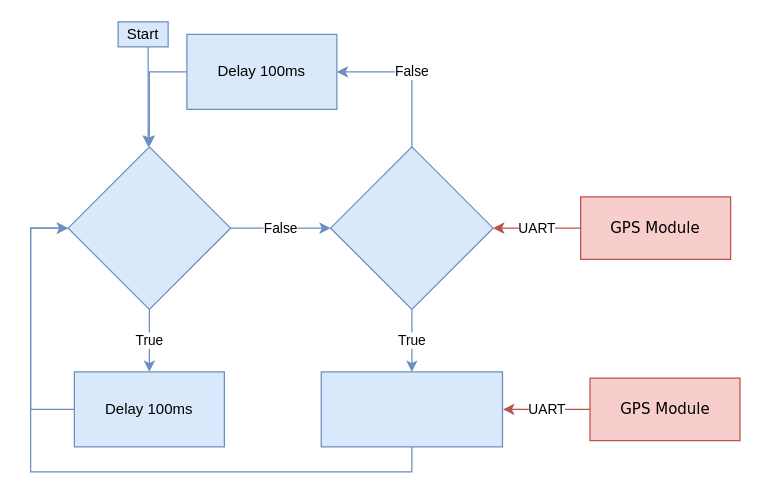
The diagram is 763 pixels wide and 504 high, and some of its shapes have lost their labels. Each missing label, with the centre of its shape:
"gps_modue.uart.any()" belongs at (411,227).
"gps_module.gps.update()" belongs at (411,409).
"subsystem.stop_flag" belongs at (149,227).
